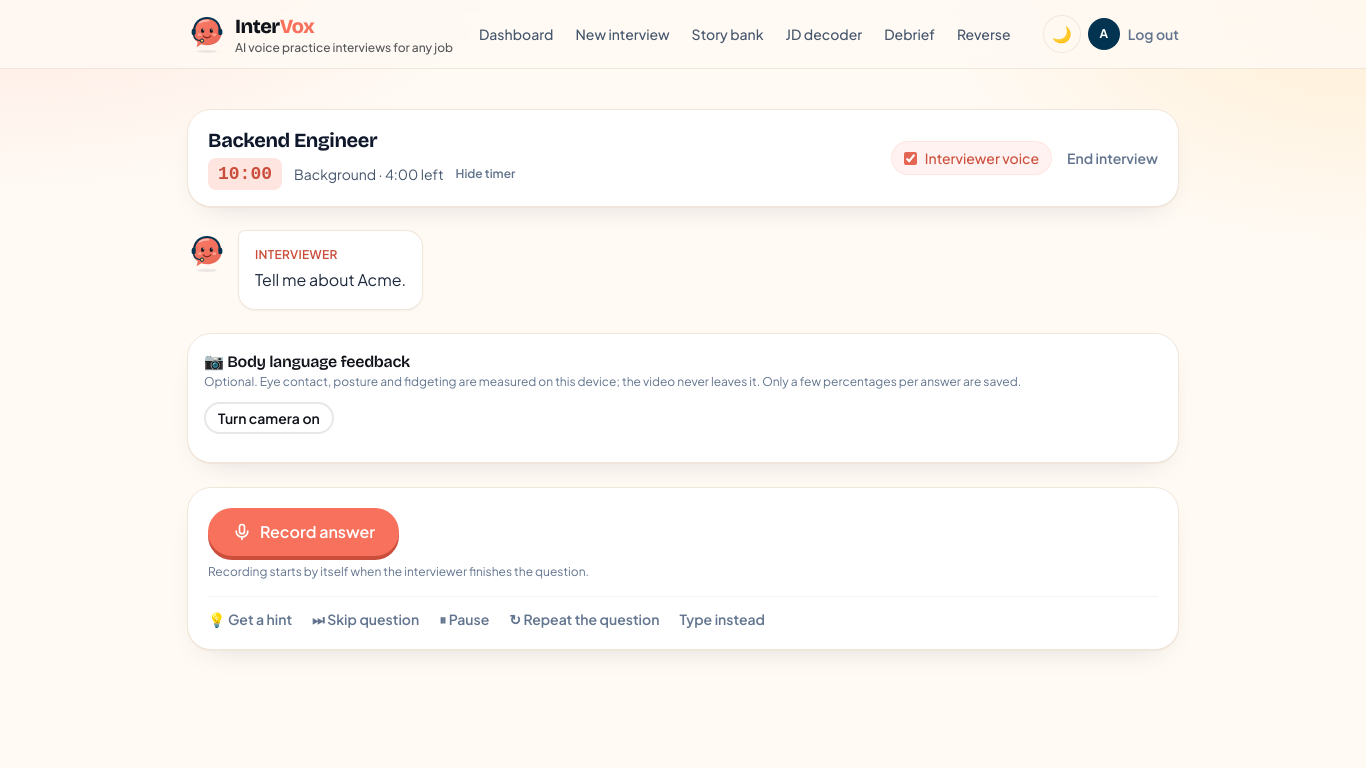
Test: spoken answers › can switch to typing
The width and height of the screenshot is (1366, 768).
Click the button "Type instead": (722, 619) x1=679 y1=609 x2=765 y2=629
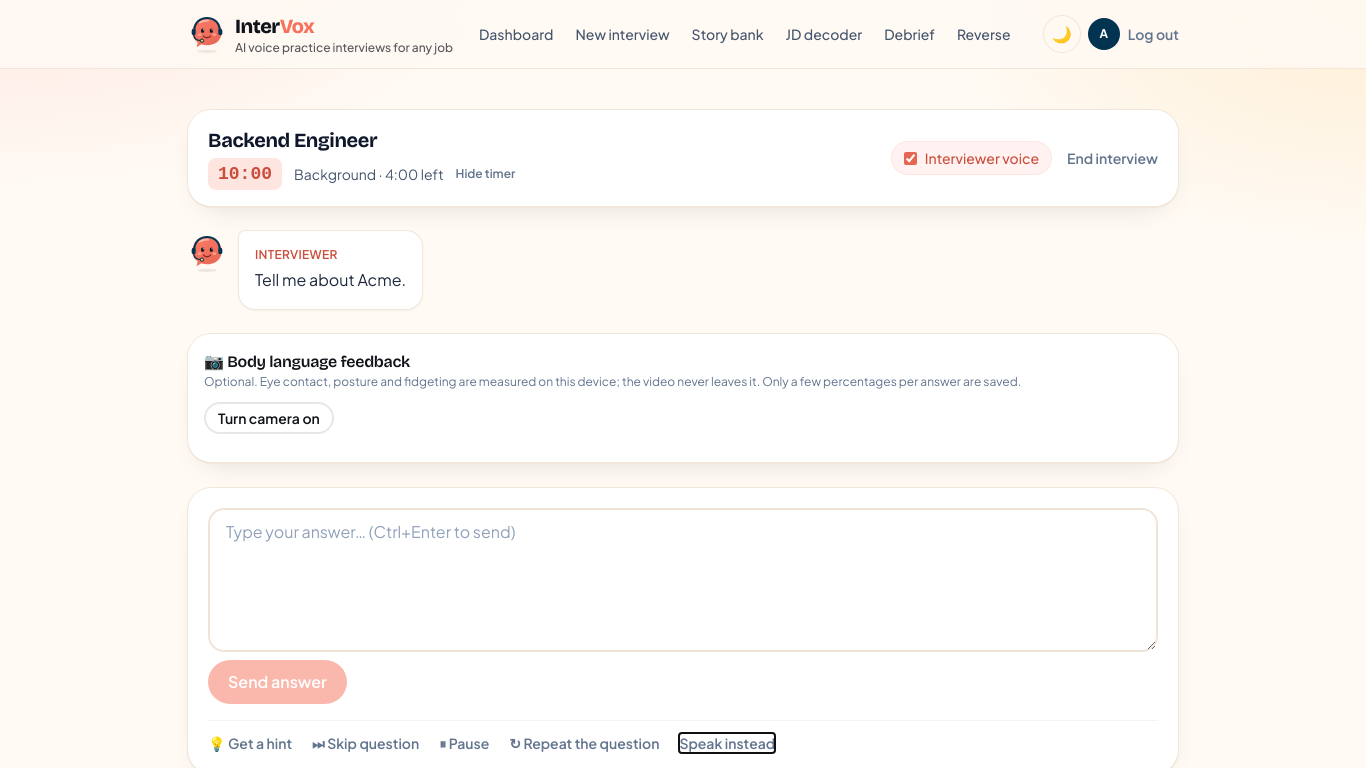
Expected: the text box labelled "your answer" is shown, x1=208 y1=508 x2=1158 y2=652
Click the button "Speak instead": (727, 743) x1=679 y1=733 x2=775 y2=753
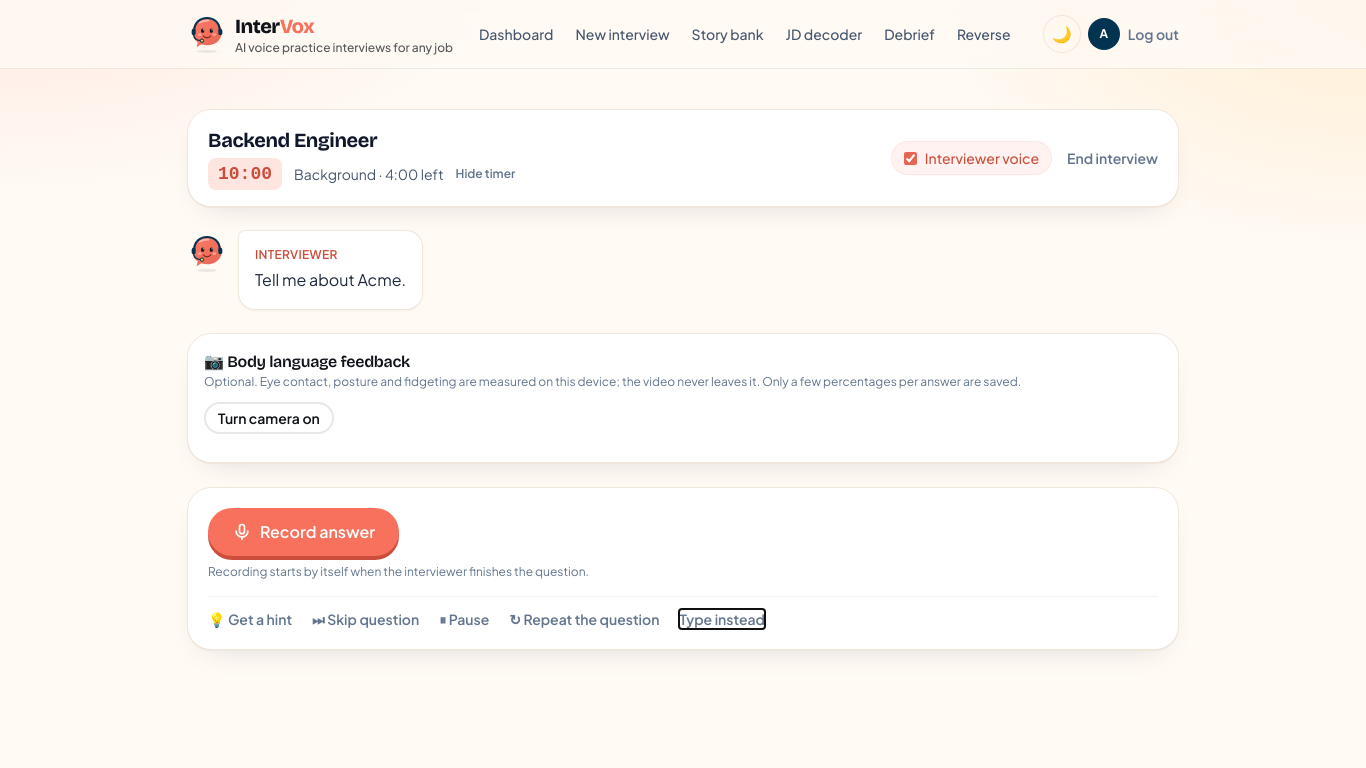
Expected: the button "Record answer" is shown, x1=208 y1=508 x2=399 y2=556
